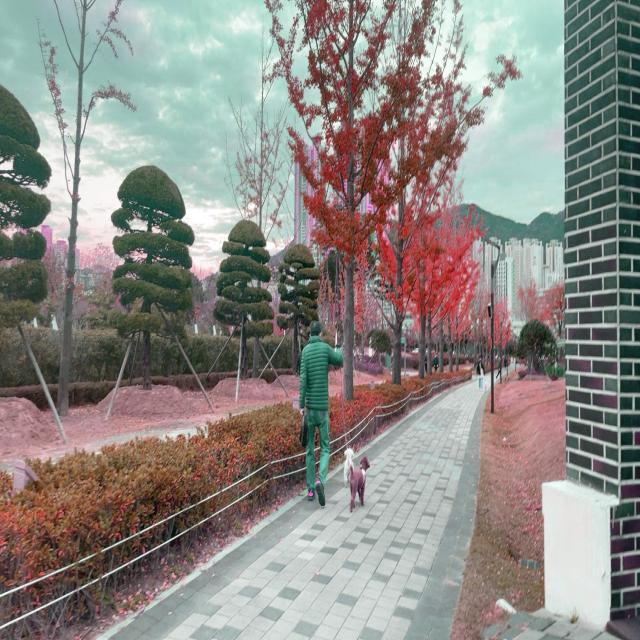Leashed_Dog: (318, 347, 370, 511), (318, 348, 355, 488), (479, 371, 488, 390)
